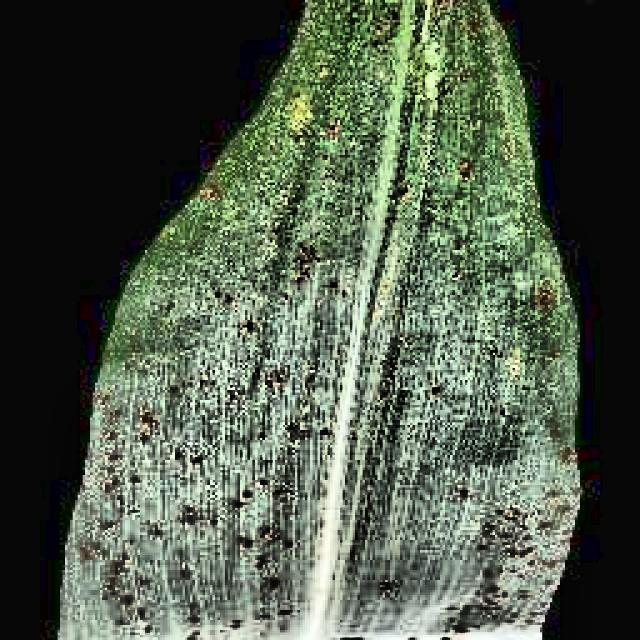common_rust: (115, 7, 584, 640)
